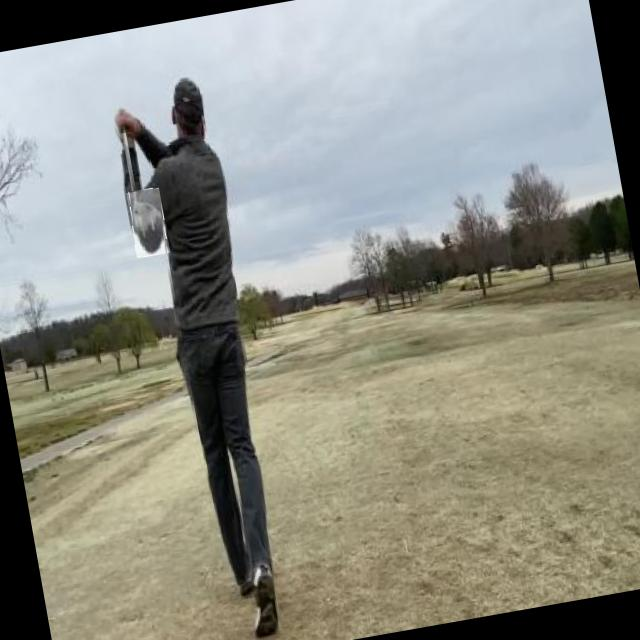club head: (126, 187, 170, 258)
